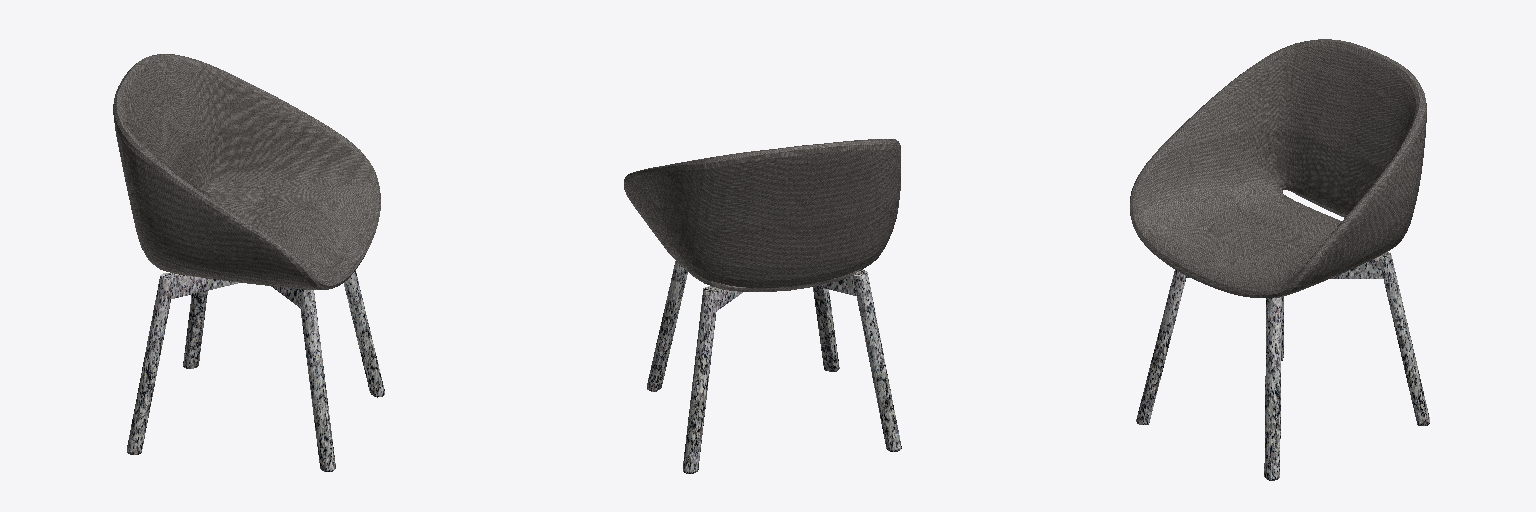
3 views of the same model, side by side, from view 1: azimuth 30°, elevation 25°; view 2: azimuth 150°, elevation 25°; view 3: azimuth 270°, elevation 25° (orthographic).
Parts seen in each view (by area): view 1: Object001, Object002; view 2: Object001, Object002; view 3: Object001, Object002.
Part boxes in pixels (bbox=[...]): Object001: bbox=[113, 54, 380, 289]; Object002: bbox=[127, 270, 384, 471]; Object001: bbox=[624, 139, 900, 291]; Object002: bbox=[647, 261, 901, 473]; Object001: bbox=[1130, 39, 1426, 298]; Object002: bbox=[1136, 252, 1429, 480].
Size of the model in its own units: 12.7 by 15.32 by 12.68.
Materials: 2 (2 with a texture image).